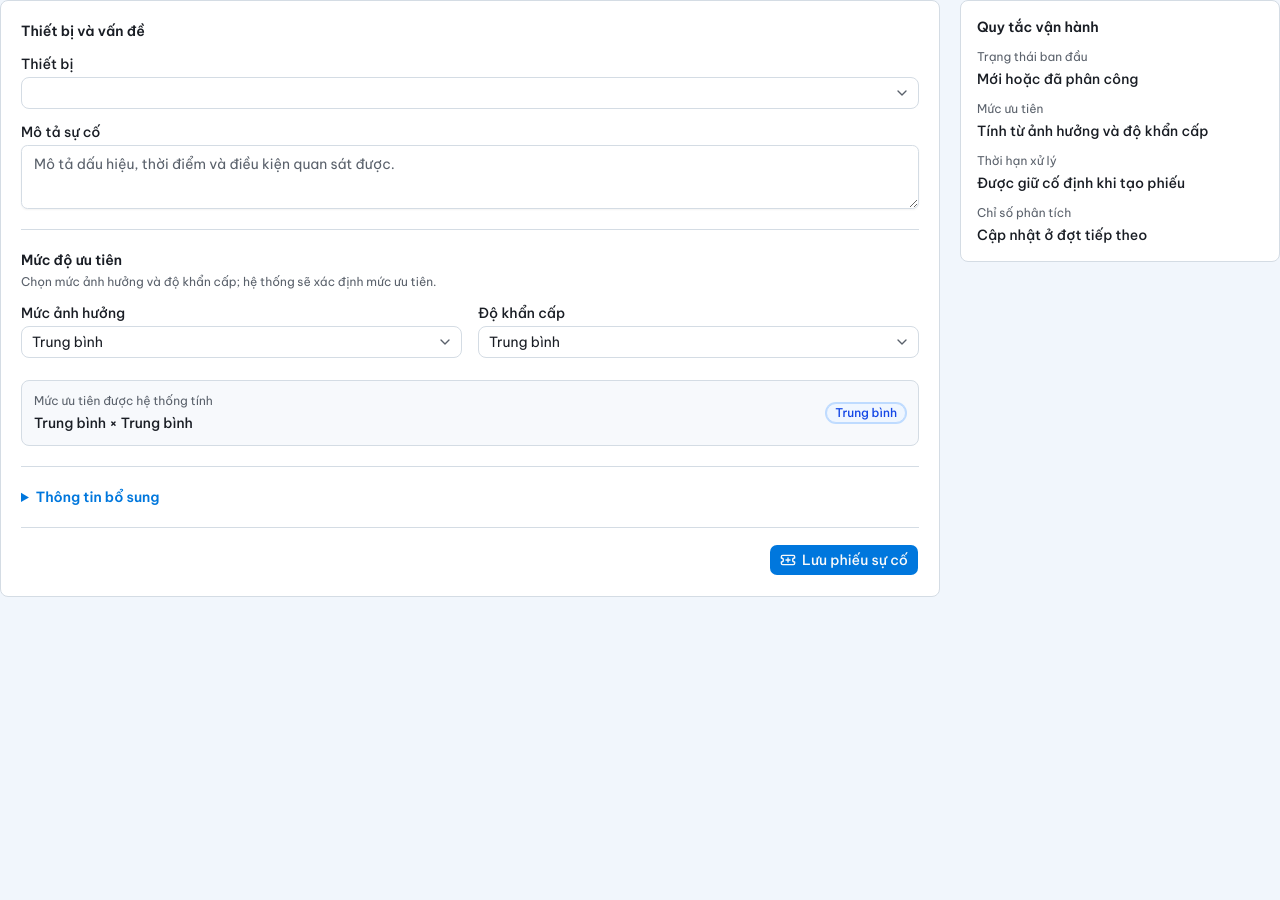
PM5 ticket intake and queues › blocks an unavailable asset from a ticket-create link
The width and height of the screenshot is (1280, 900).
Expected: the text "Tính từ ảnh hưởng và độ khẩn cấp" is shown, [977,122,1208,140]
Type "Cần kiểm tra thiết bị từ liên kết không còn hiệu lực." into the text box labelled "Mô tả sự cố" at (470,177), box [21,145,919,209]
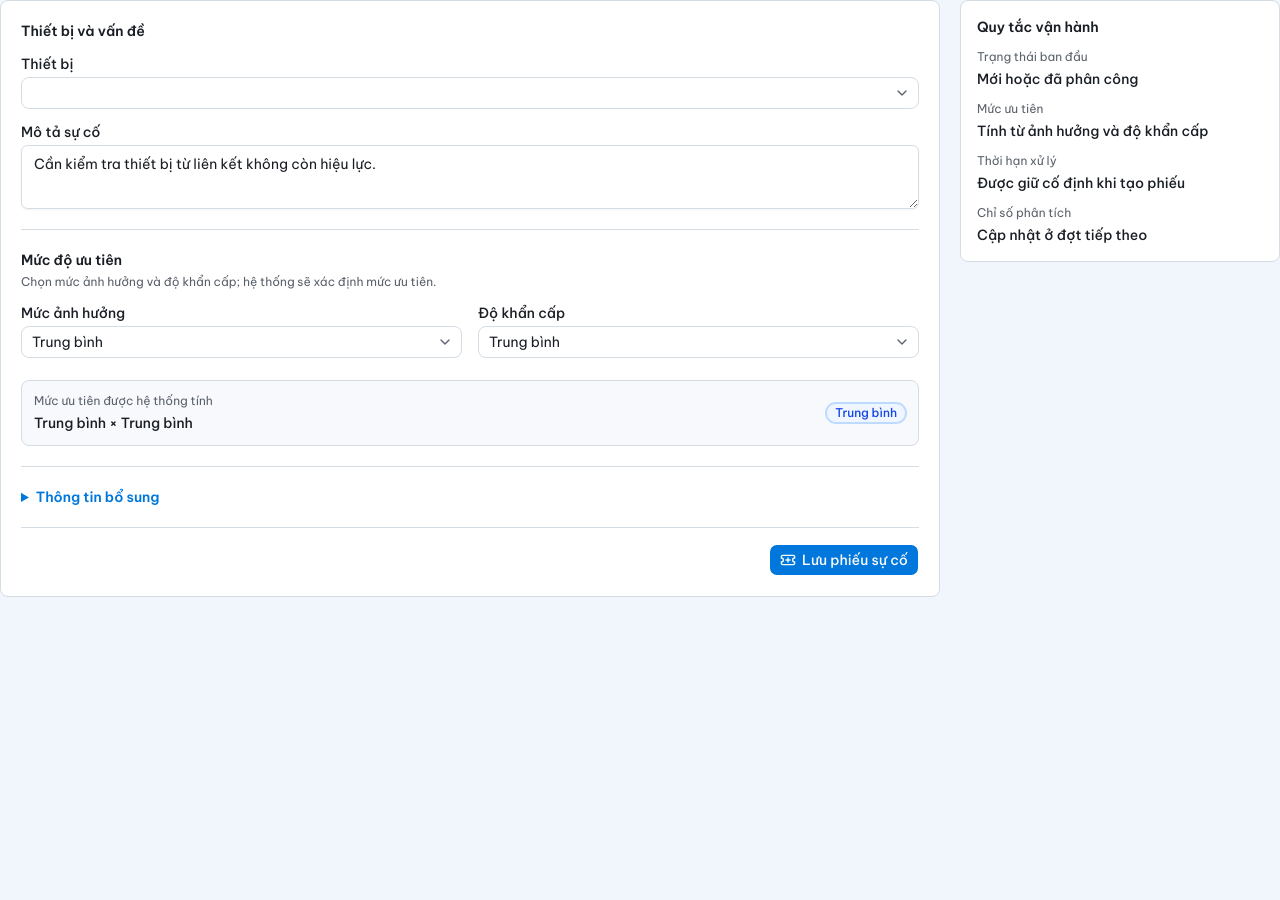
Click the button "Lưu phiếu sự cố" at (844,560), box [769,544,919,576]
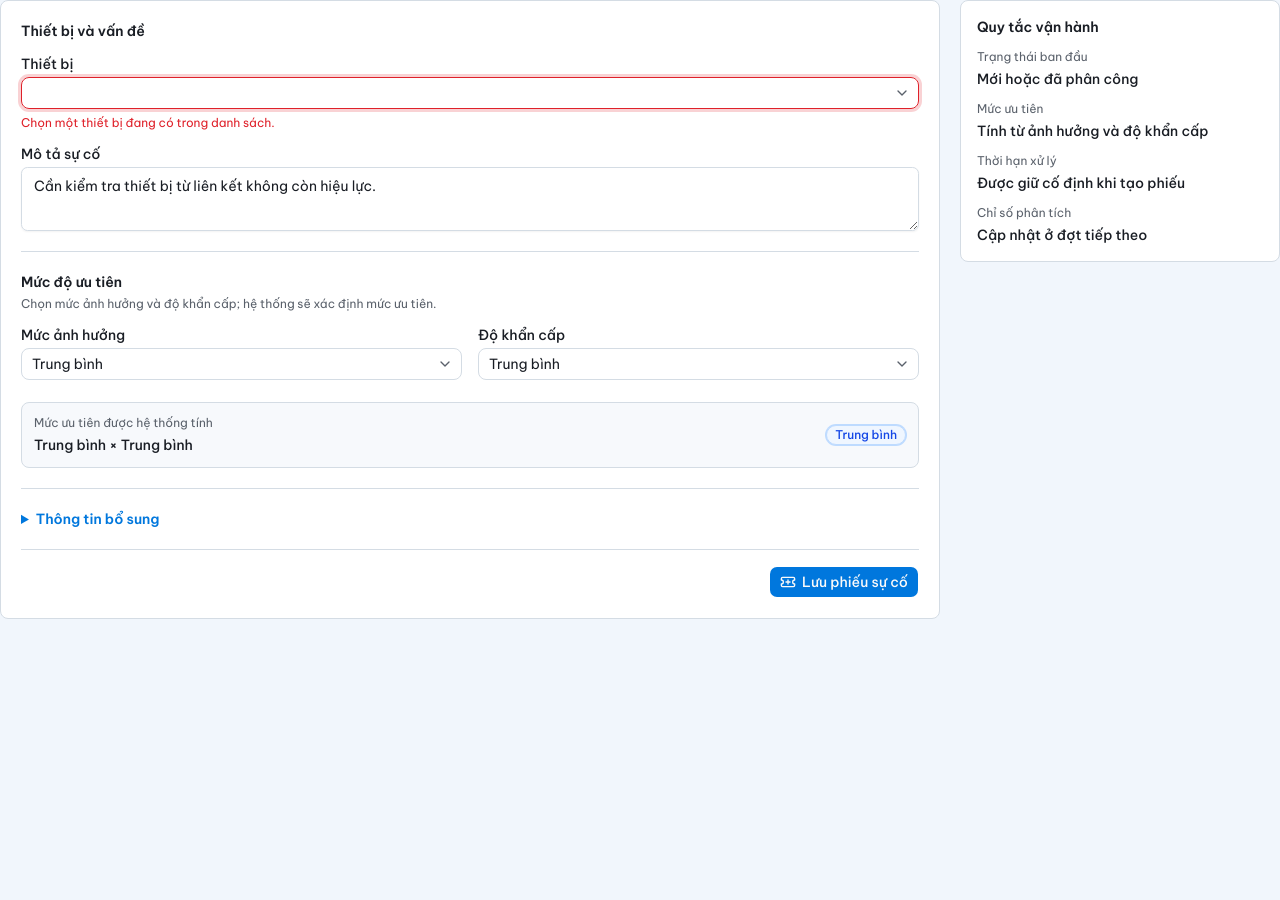
Expected: the text "Chọn một thiết bị đang có trong danh sách." is shown, [21,115,275,130]
